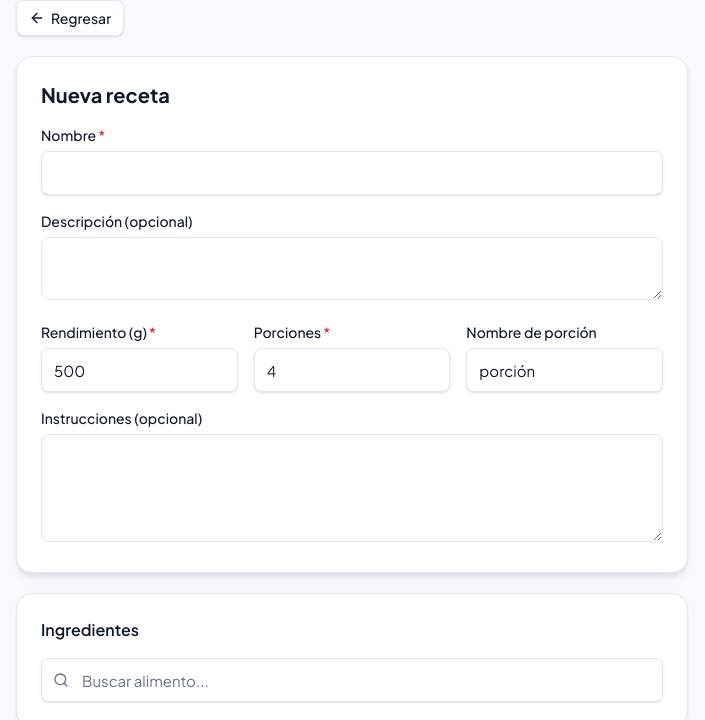
it: RecipeEditorPage — micronutrient availability preview › shows micronutrient availability per selected ingredient without loading 16 manual inputs
This screenshot has width=705, height=720.
In the field with placeholder "Buscar alimento...": (352, 680) x1=41 y1=658 x2=663 y2=702, type "espinaca"
(page scrolled)
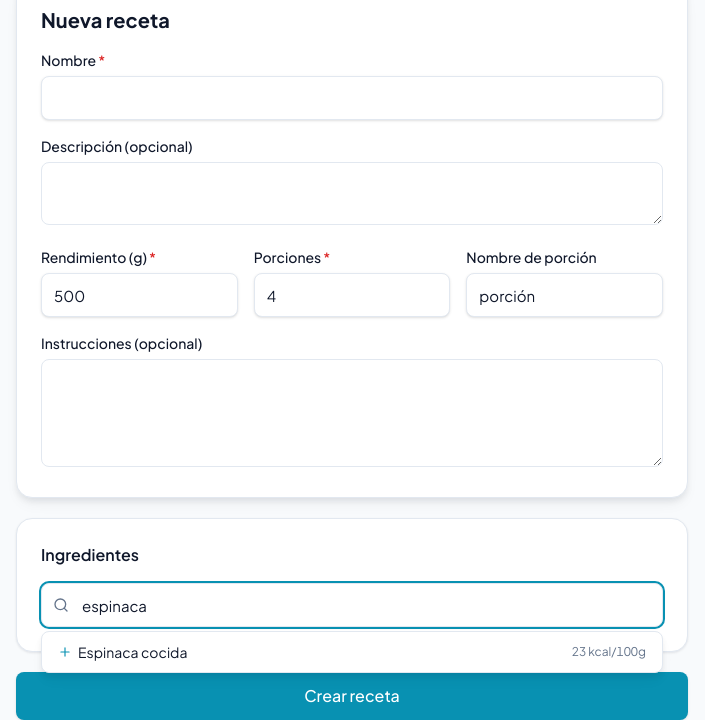
Click the text "Espinaca cocida": click(123, 652) x1=58 y1=642 x2=188 y2=662
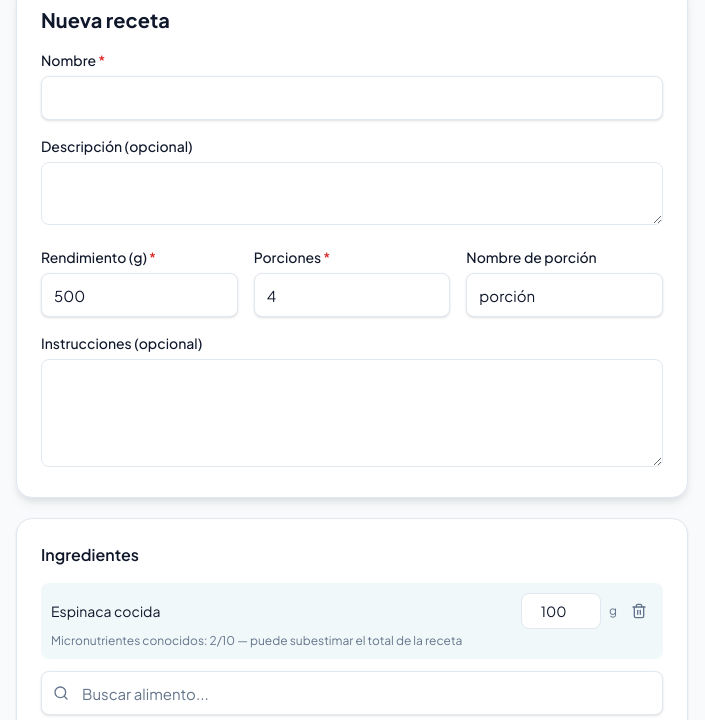
Now the text "Micronutrientes conocidos: 2/10" is shown, box x1=51 y1=633 x2=462 y2=648
